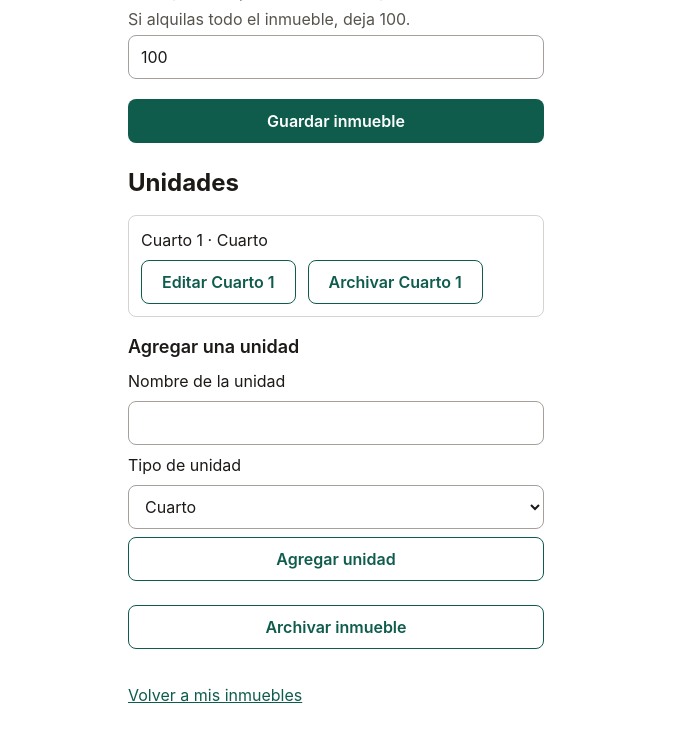
Test: edit property › archives the property after confirming
(page scrolled)
Click the button "Archivar inmueble" at (336, 627), box top-left (128, 605), bottom-right (544, 649)
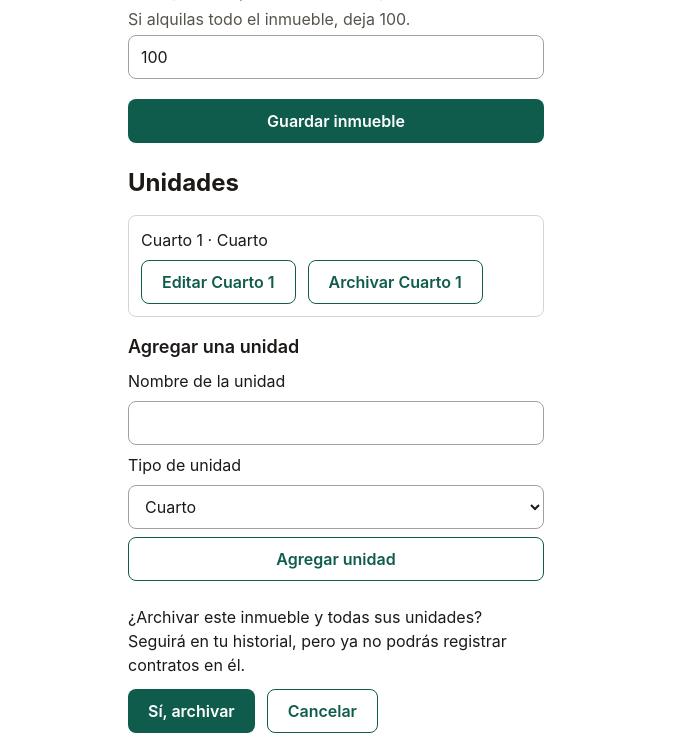
Click the button "Sí, archivar" at (191, 711), box top-left (128, 689), bottom-right (255, 733)
(page scrolled)
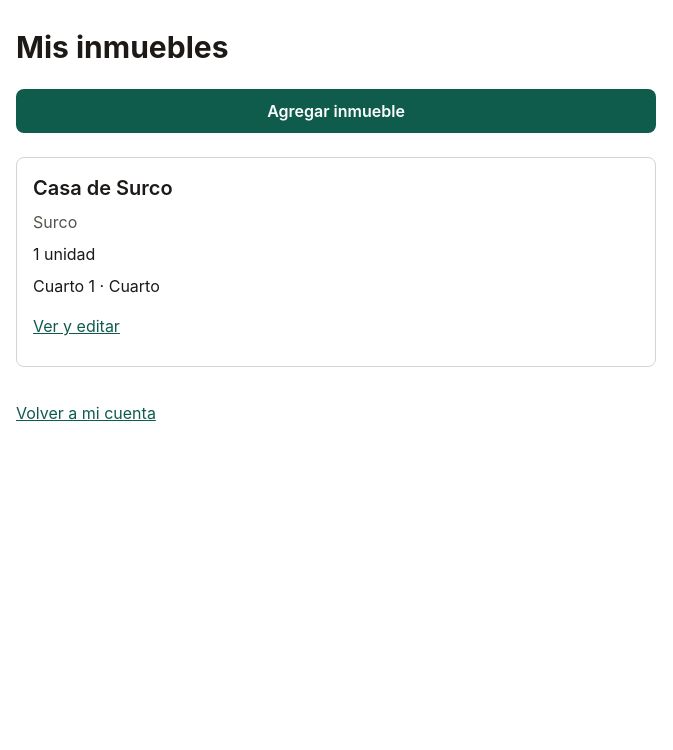
Now the heading "Mis inmuebles" is shown, box top-left (16, 29), bottom-right (228, 65)
